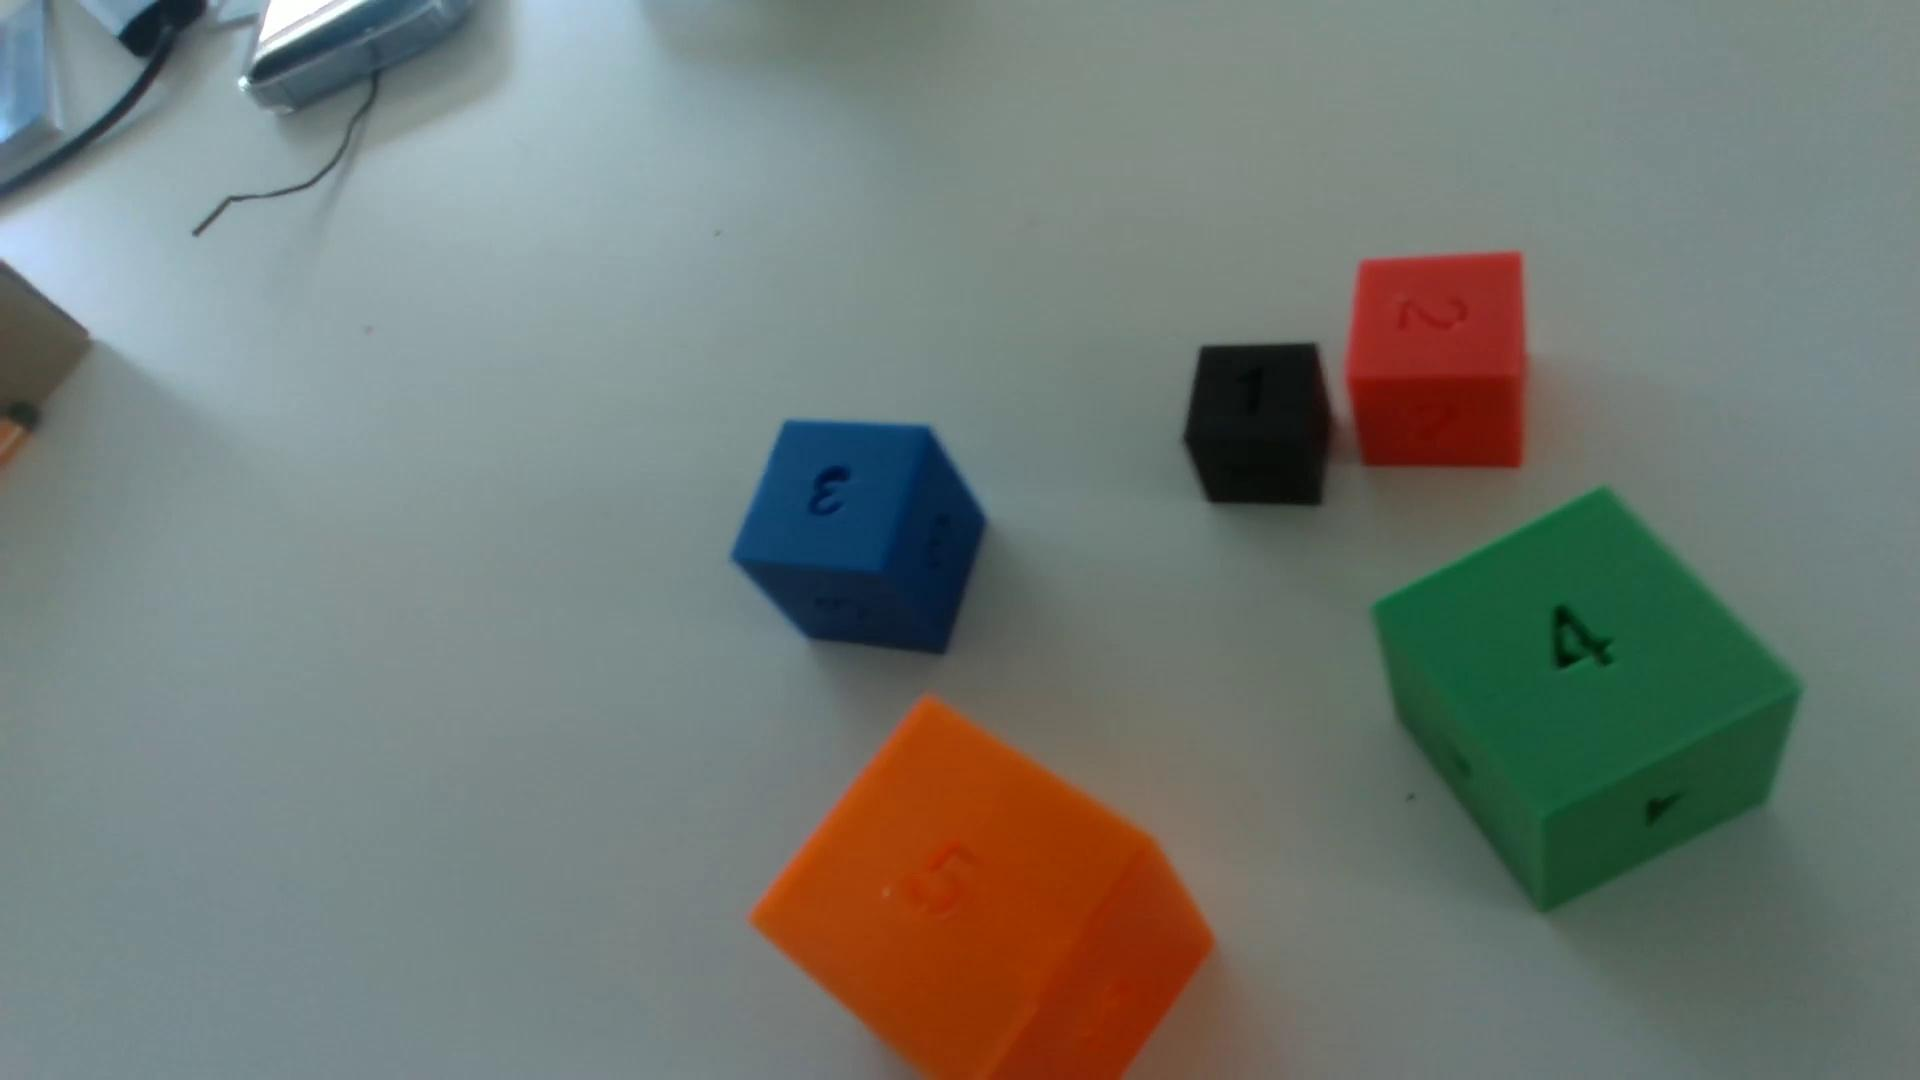black: (1182, 343, 1333, 508)
blue: (732, 421, 986, 655)
green: (1374, 491, 1800, 910)
orange: (752, 700, 1213, 1080)
red: (1344, 253, 1526, 469)
